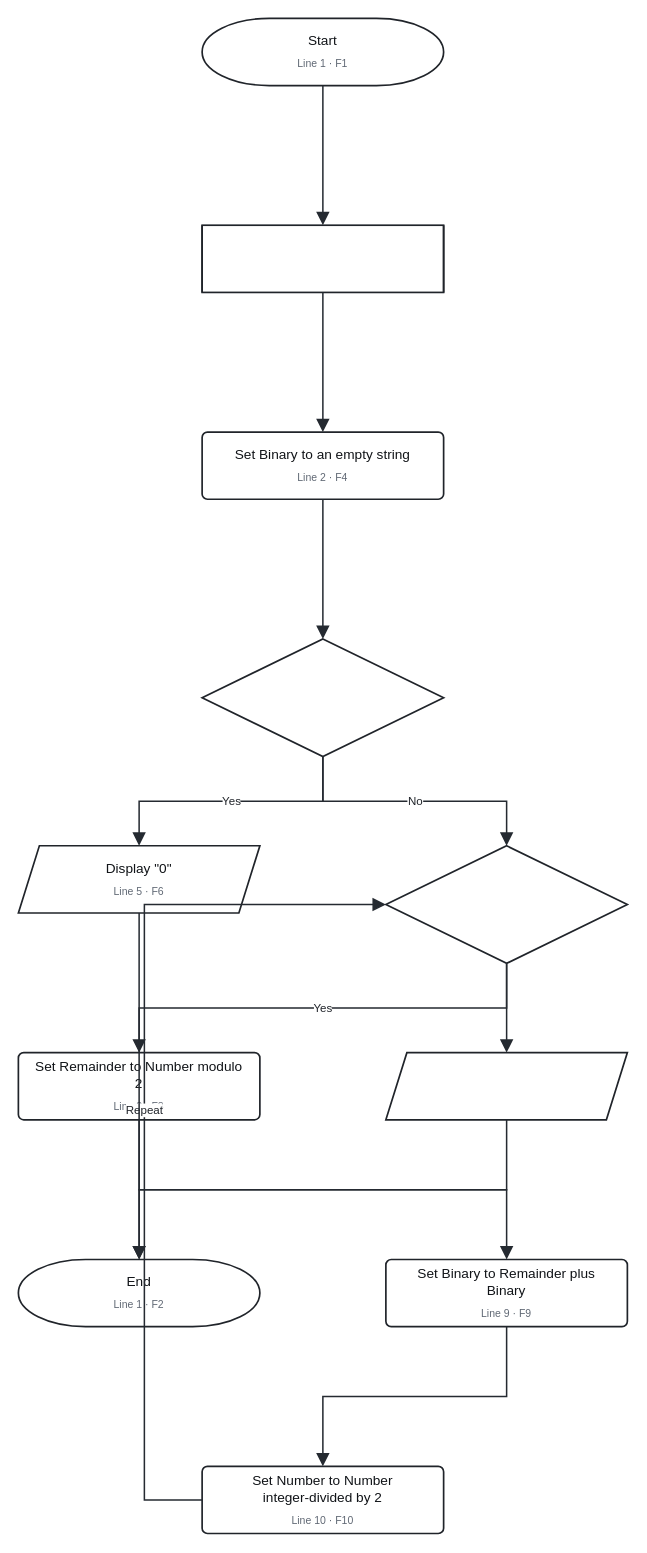
This 647x1553 diagram has some shape labels left out. The shapes that lost their labels are listed below. From the top down, each one's centre as x and y in pixels, then its label:
At point (322, 258): "Run function unnamed_function with Number Line 1 · F3".
At point (322, 697): "Number is equal to 0? Line 4 · F5".
At point (506, 904): "Number is greater than 0? Line 7 · F7".
At point (506, 1085): "Display Binary Line 13 · F11".
